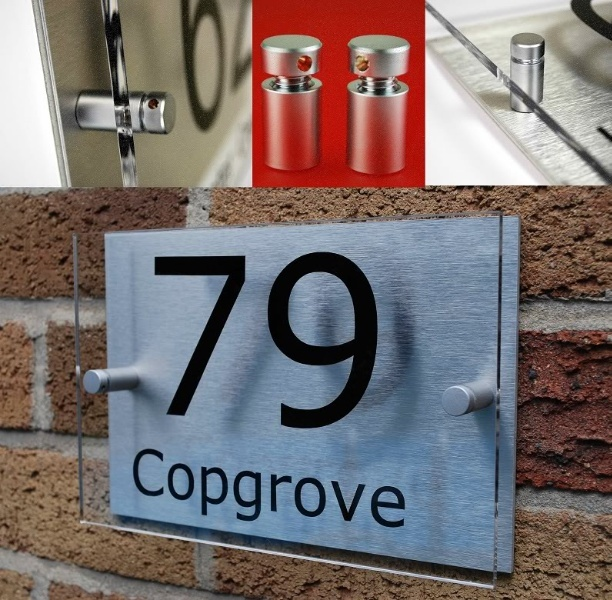text: (161, 251, 176, 435), (177, 251, 192, 435), (193, 251, 208, 435), (209, 251, 224, 435), (225, 251, 240, 435), (241, 251, 256, 435), (257, 251, 272, 435), (273, 251, 288, 435), (289, 251, 304, 435), (305, 251, 320, 435), (321, 251, 336, 435), (337, 251, 352, 435), (353, 251, 368, 435), (369, 251, 384, 435), (385, 251, 398, 435), (241, 1, 257, 149), (177, 1, 192, 149), (193, 1, 208, 149), (209, 1, 224, 149), (225, 1, 240, 149), (129, 445, 144, 541), (145, 445, 160, 541), (161, 445, 176, 541), (177, 445, 192, 541), (193, 445, 208, 541), (209, 445, 224, 541), (225, 445, 240, 541), (241, 445, 256, 541), (257, 445, 272, 541), (273, 445, 288, 541), (289, 445, 304, 541), (305, 445, 320, 541), (321, 445, 336, 541), (337, 445, 352, 541), (353, 445, 368, 541), (369, 445, 384, 541), (385, 445, 400, 541), (168, 1, 176, 149), (154, 251, 160, 435), (401, 445, 407, 541)
